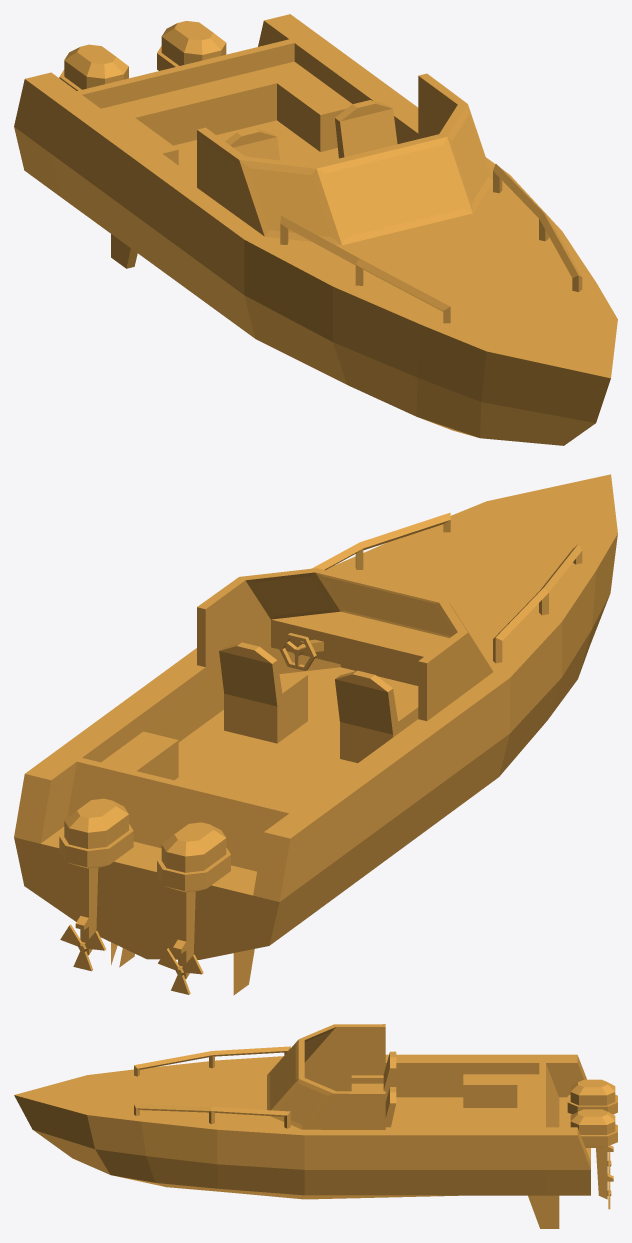
File: boat-speed.glb
The picture shows the model from 3 angles, top to bottom: view 1: azimuth 30°, elevation 25°; view 2: azimuth 150°, elevation 25°; view 3: azimuth 270°, elevation 25°; orthographic projection. The views are drawn at different scales.
Visible parts, largest first — view 1: boat-speed; view 2: boat-speed; view 3: boat-speed.
Boxes of the visible parts, box(x1,y1,x2,y2) form: boat-speed: box(14, 14, 617, 445); boat-speed: box(14, 474, 617, 995); boat-speed: box(14, 1024, 617, 1228).
Bounding box in the file's own units: 3 × 2.63 × 9.5.
